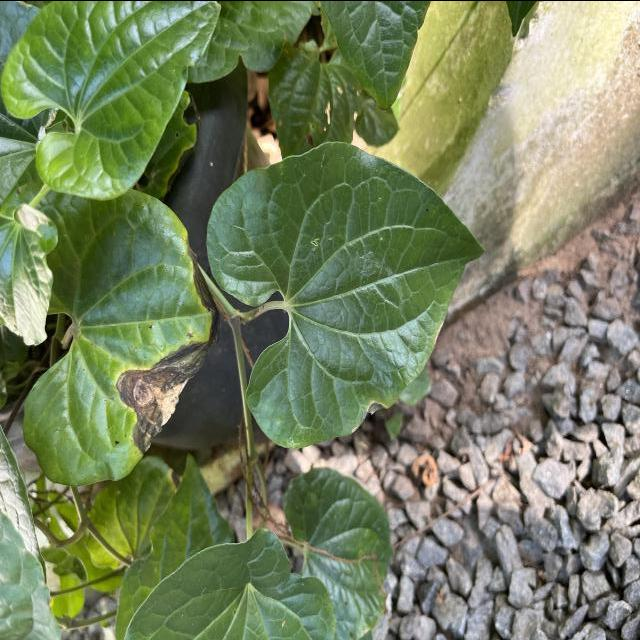Piper longum: (203, 137, 491, 451)
